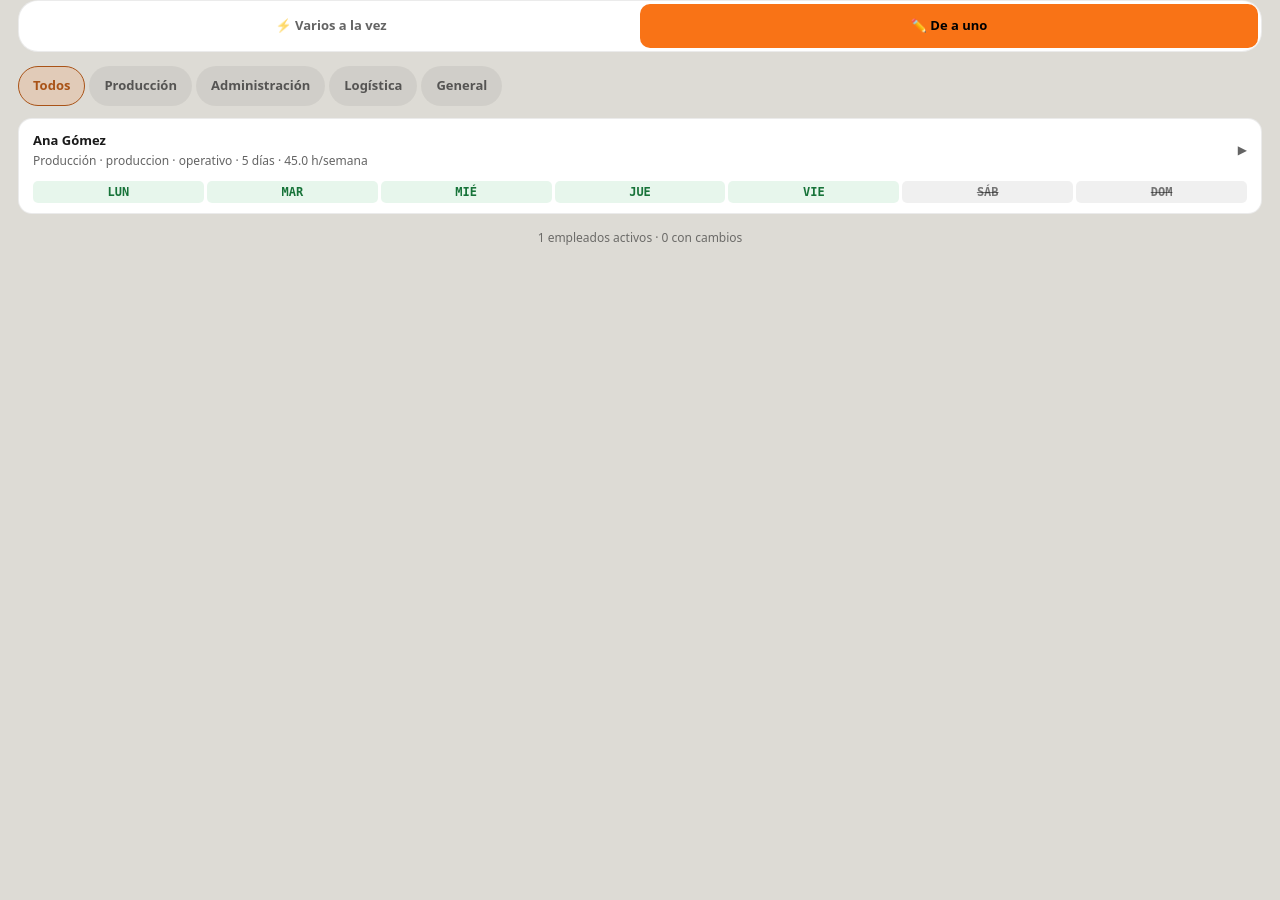
Test: horarios — modos 'De a uno' / 'Varios a la vez' e interruptores de 48 px que dicen qué hacen
Click the button "Ana Gómez" at x=69, y=140, box [19,119,1261,180]
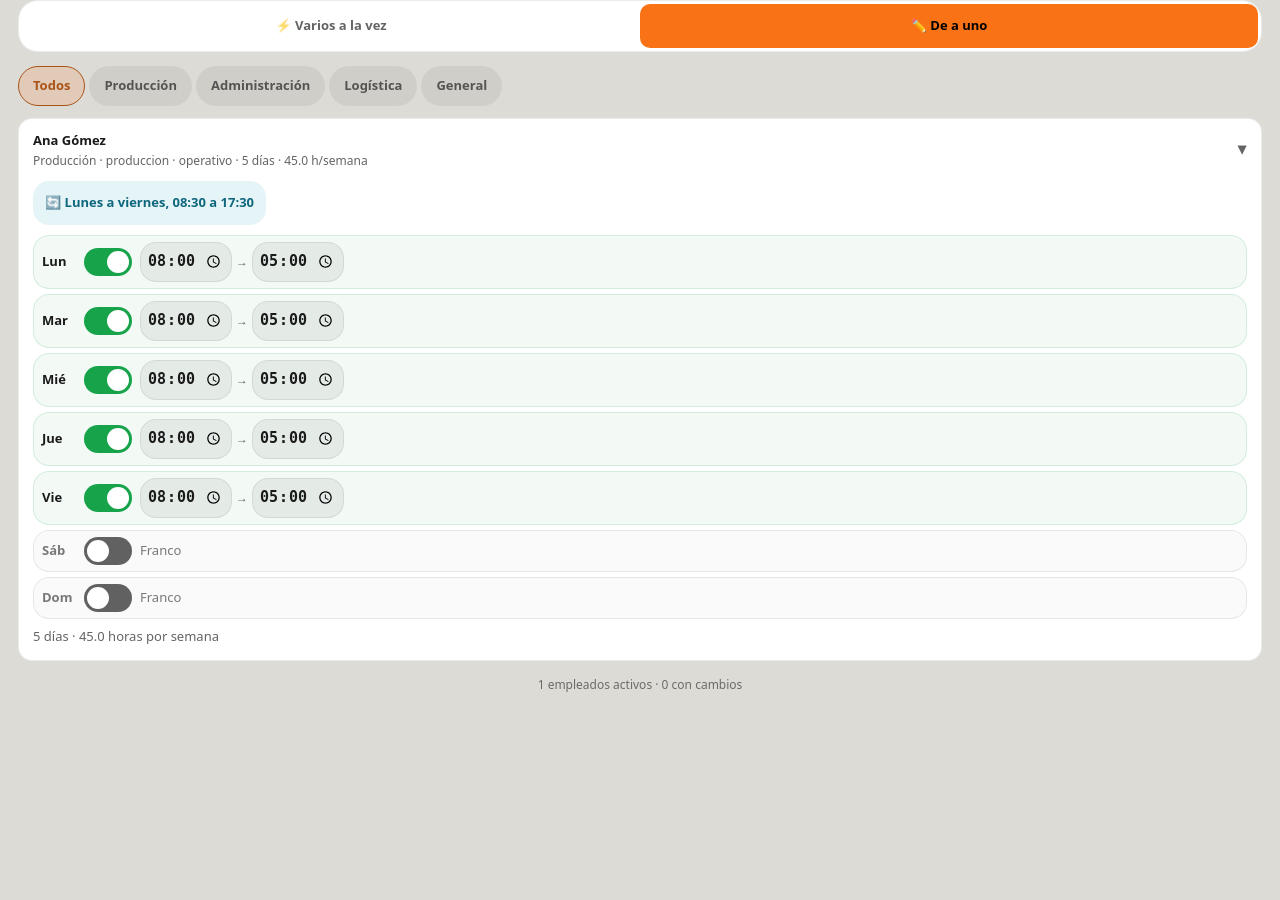
Click the button named "Lun: trabaja" at x=108, y=262, box [84,248,132,276]
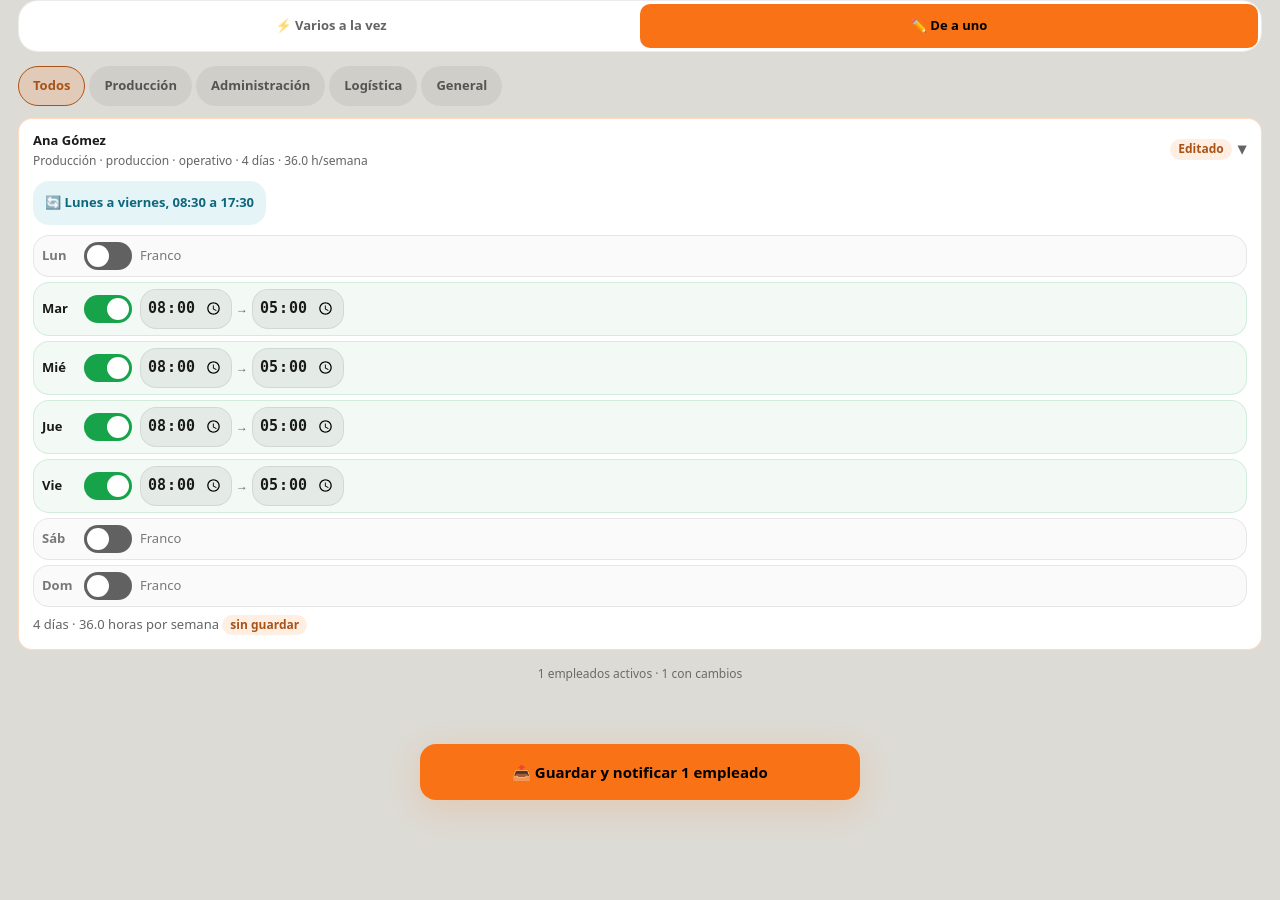
Now the button "🔄 Lunes a viernes, 08:30 a 17:30" is shown, box [33,180,266,224]
Now the button named "Lun: franco" is shown, box [84,242,132,270]
Now the button "📤 Guardar y notificar 1 empleado" is shown, box [420,744,860,800]
Click the button "⚡ Varios a la vez" at x=331, y=26, box [22,4,640,48]
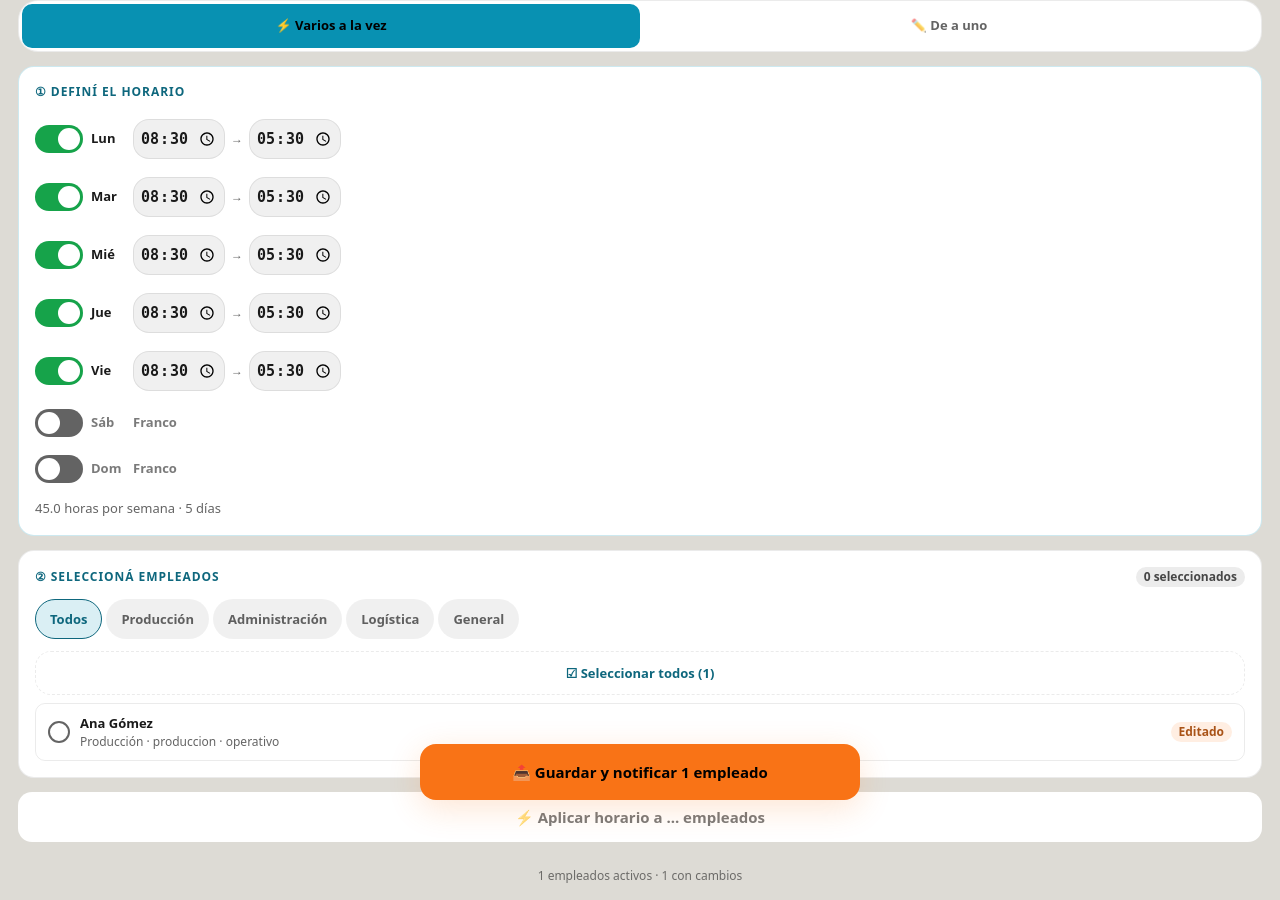
Now the text "① Definí el horario" is shown, box [35,83,185,100]
